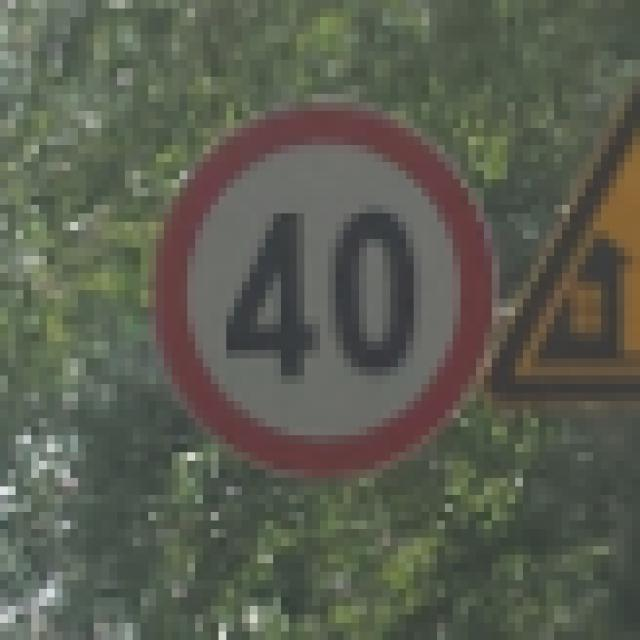Speed: (156, 81, 509, 493)
